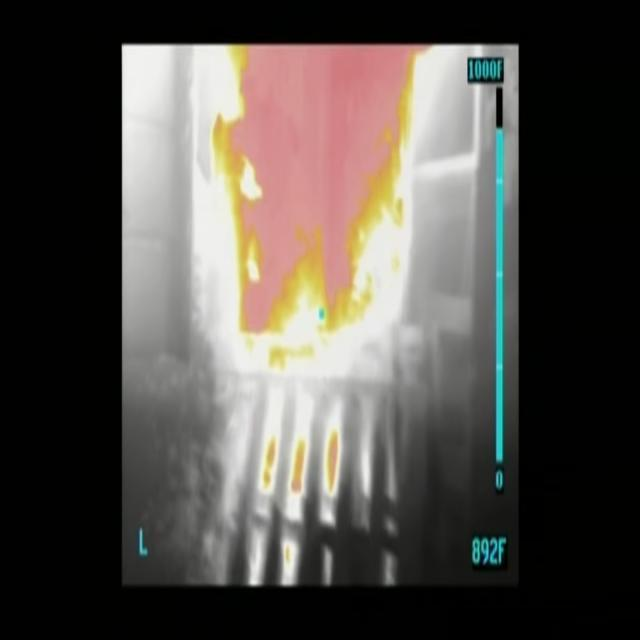fire: (234, 49, 434, 337)
